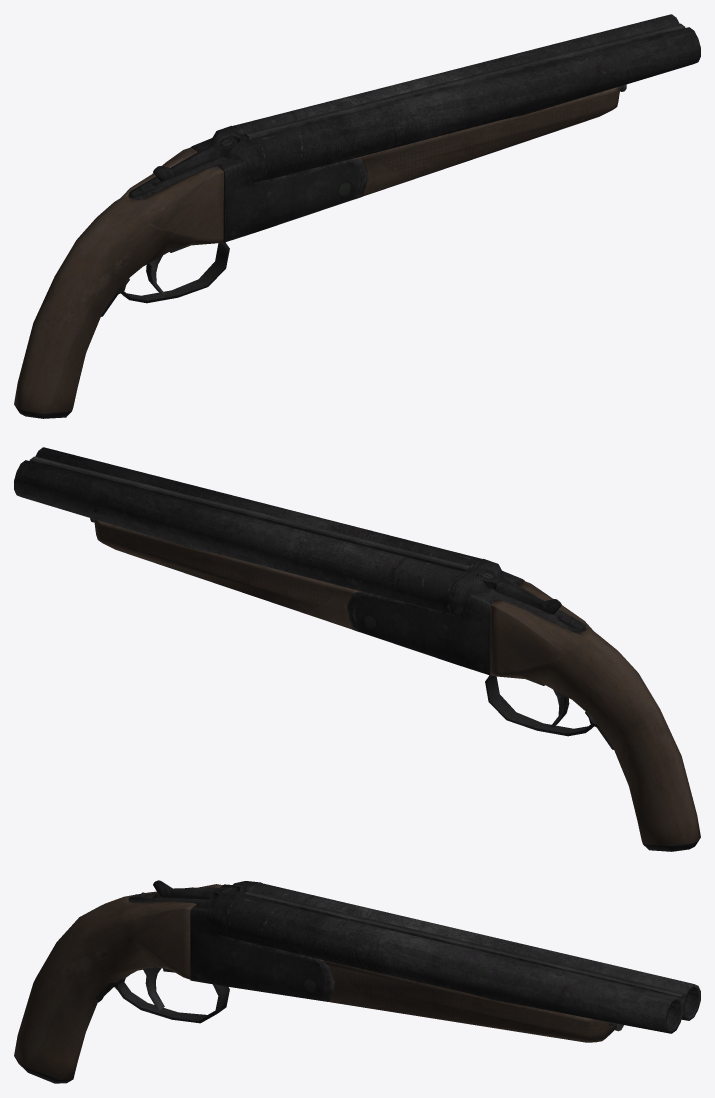
3 views of the same model, one above another, from view 1: azimuth 30°, elevation 25°; view 2: azimuth 150°, elevation 25°; view 3: azimuth 330°, elevation 25° (orthographic).
Visible parts, largest first — view 1: Gun_Root.003; view 2: Gun_Root.003; view 3: Gun_Root.003.
Boxes of the visible parts, left/top/right/bottom form: Gun_Root.003: left=14, top=14, right=700, bottom=418; Gun_Root.003: left=14, top=447, right=700, bottom=851; Gun_Root.003: left=14, top=880, right=700, bottom=1083.
Size of the model in its own units: 1.25 by 0.4321 by 0.1318.
Materials: 1 (1 with a texture image).
